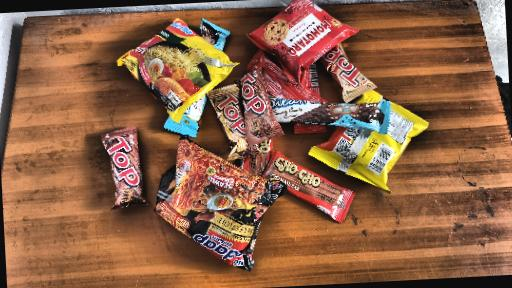chocho: (267, 142, 361, 229)
dilan: (267, 89, 394, 138)
indomie: (113, 13, 239, 114)
mie sedap: (149, 131, 286, 276)
momotaro: (237, 0, 364, 79)
top: (314, 88, 425, 191), (100, 123, 153, 211), (205, 86, 261, 160), (319, 42, 380, 101), (239, 70, 287, 143)
